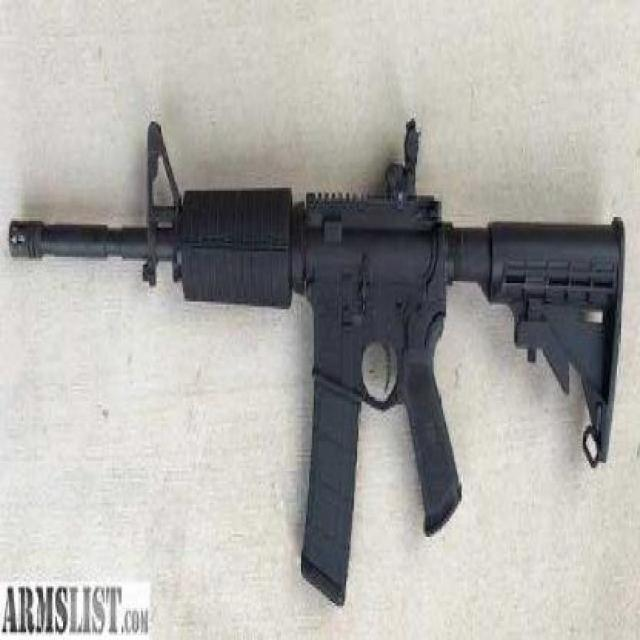weapon: (10, 134, 640, 601)
